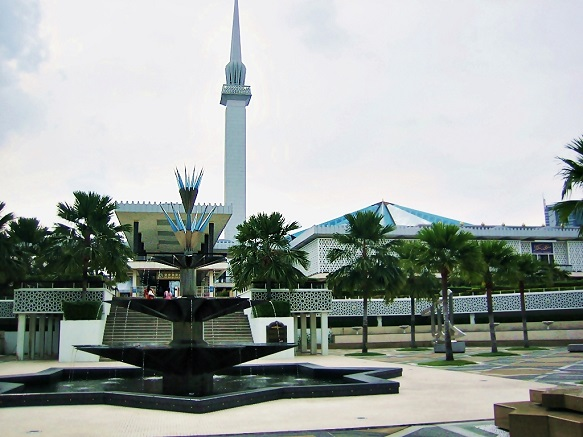Mosque: (219, 5, 248, 230)
